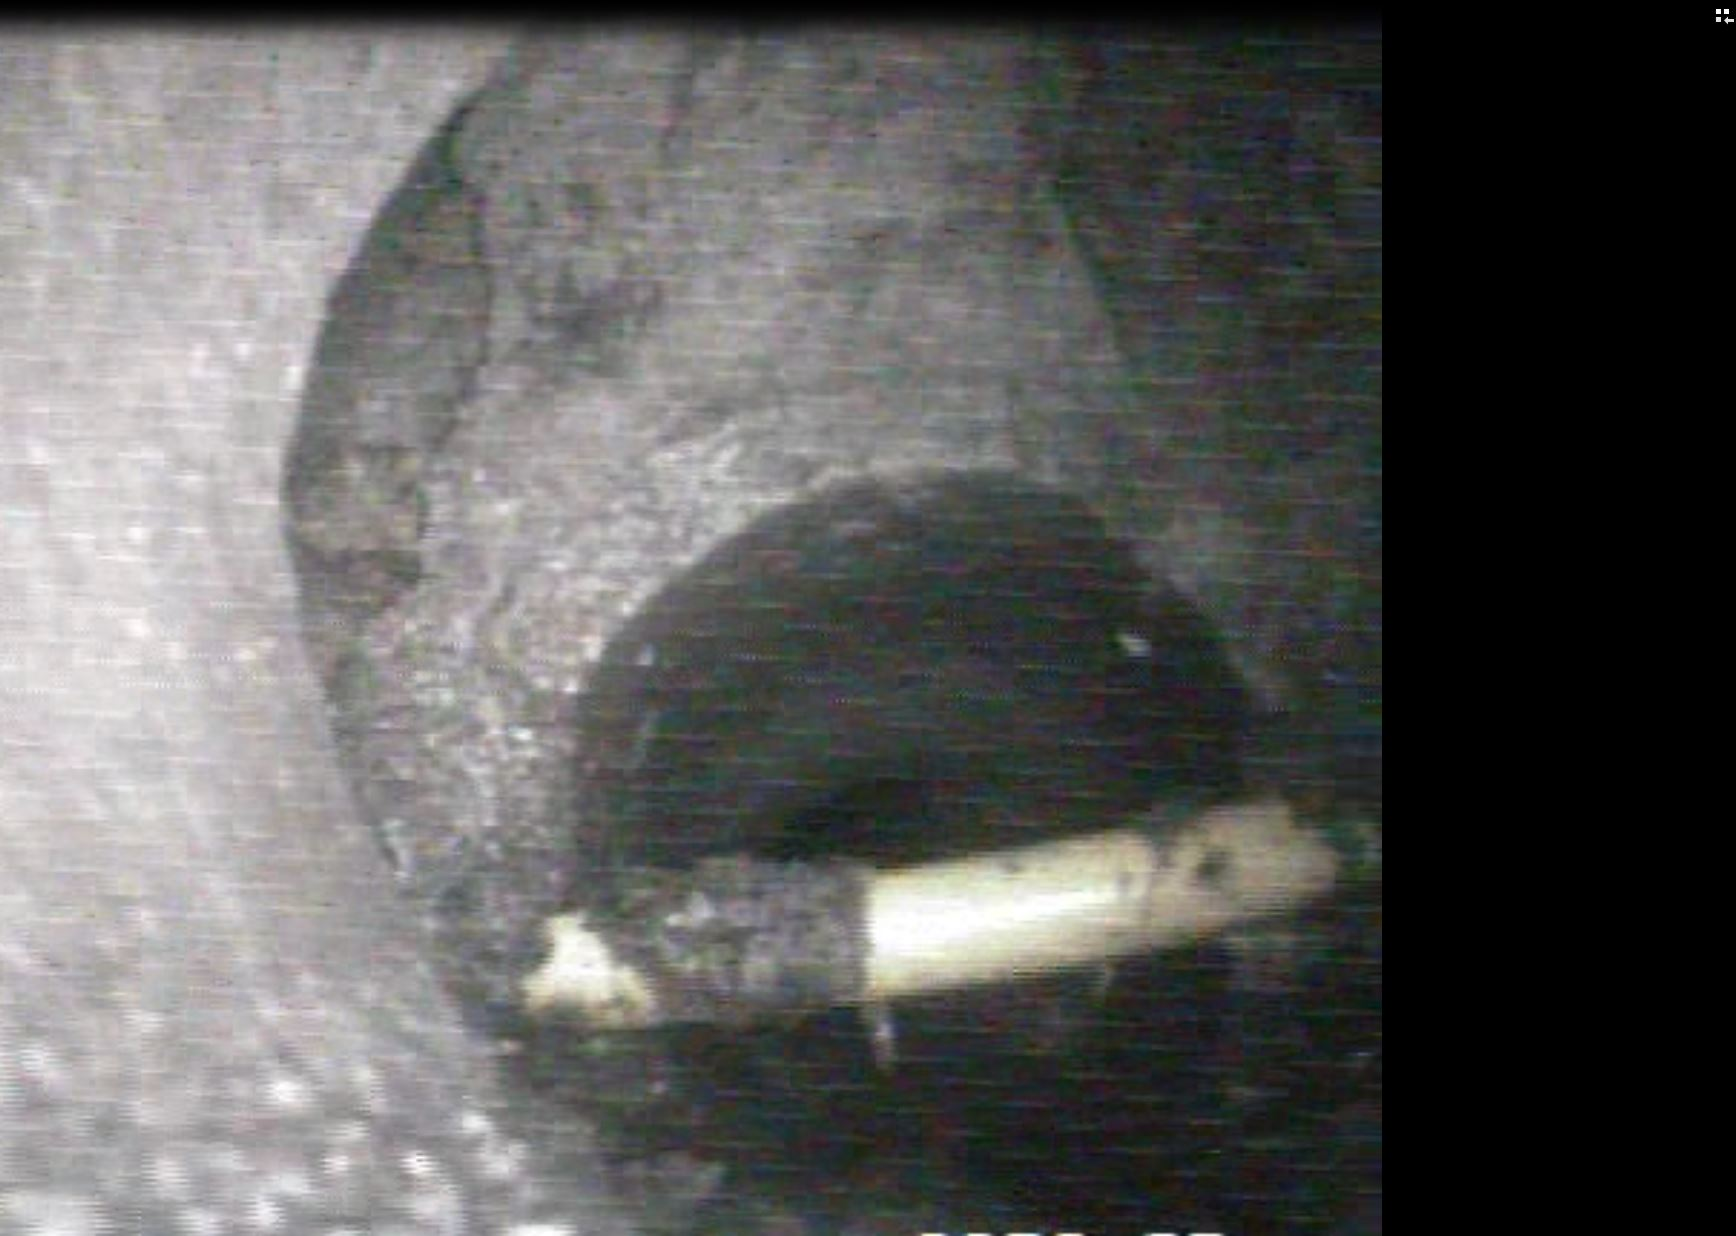cb: (476, 766, 1362, 1077)
